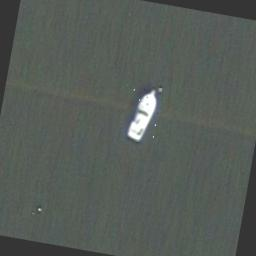boat: (121, 82, 162, 144)
